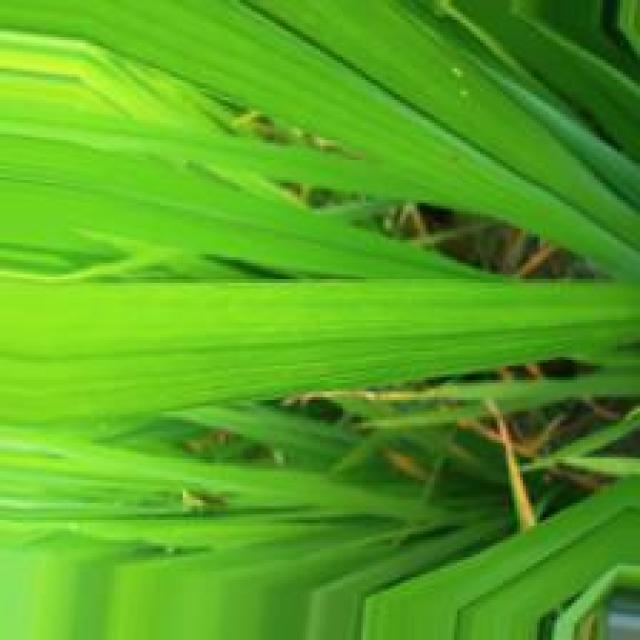HealthyLeaf: (90, 0, 636, 269), (69, 285, 592, 414)
